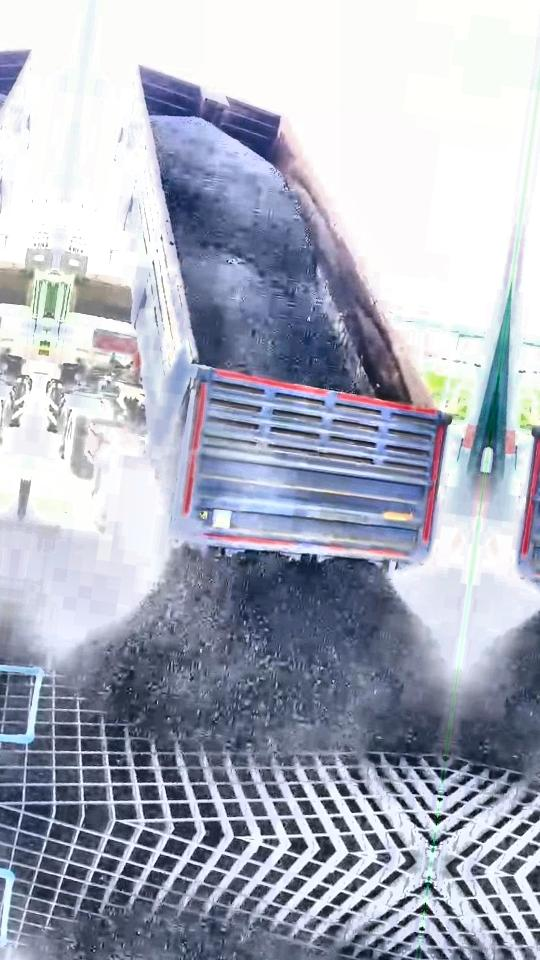gravel: (69, 553, 451, 752), (151, 117, 370, 392)
